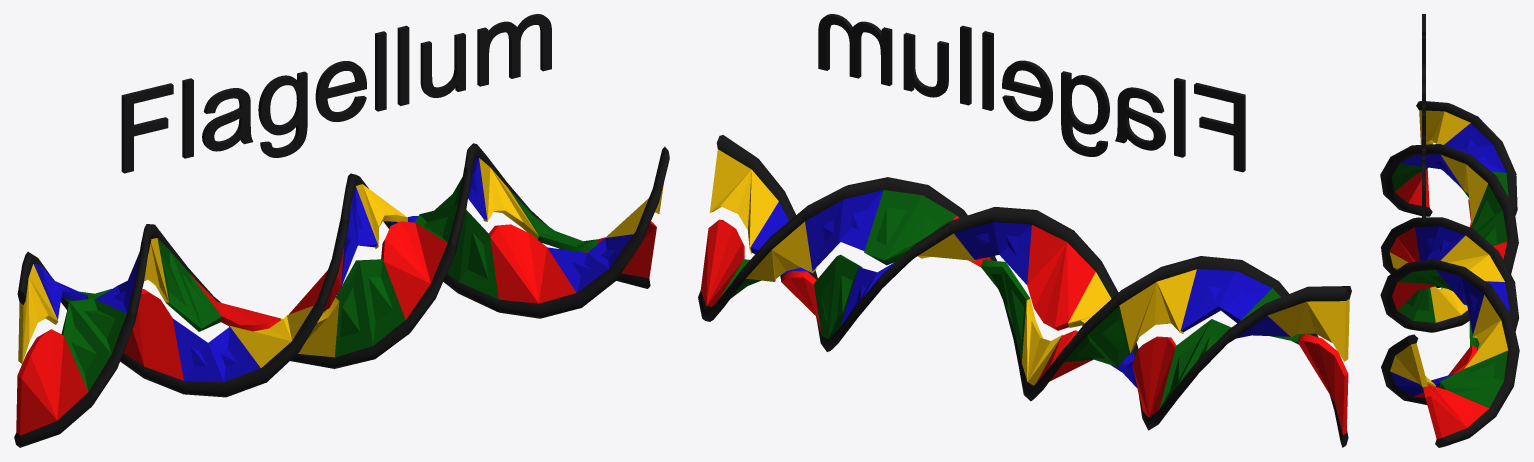
File: Gene_Flagelium.FBX
3 views of the same model, side by side, from view 1: azimuth 30°, elevation 25°; view 2: azimuth 150°, elevation 25°; view 3: azimuth 270°, elevation 25° (orthographic). The views are drawn at different scales.
Visible parts, largest first — view 1: Group004, Text004; view 2: Group004, Text004; view 3: Group004, Text004.
Part boxes in pixels (x1,y1,x2,y2): Group004: (14, 143, 669, 447); Text004: (121, 14, 551, 173); Group004: (698, 135, 1351, 447); Text004: (818, 14, 1245, 172); Group004: (1380, 101, 1519, 447); Text004: (1422, 14, 1425, 222).
Size of the model in its own units: 140 by 36.19 by 69.69.
